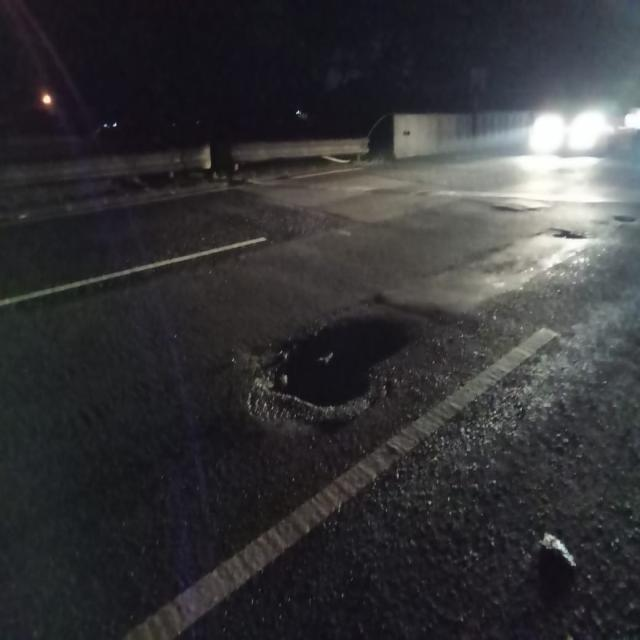Buraco: (240, 313, 426, 428), (549, 227, 589, 241), (610, 214, 638, 224)
